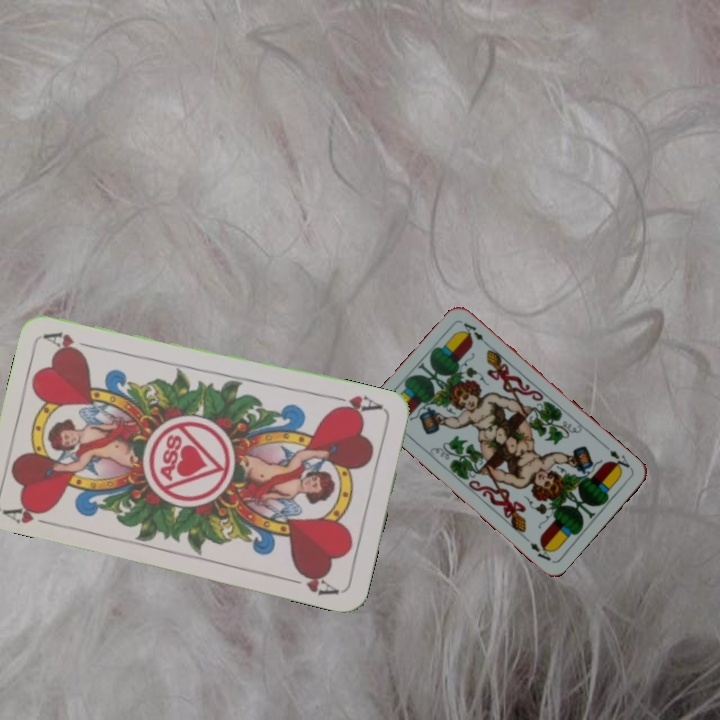EA: (601, 441, 632, 474)
HA: (1, 498, 60, 529), (328, 391, 386, 418)
